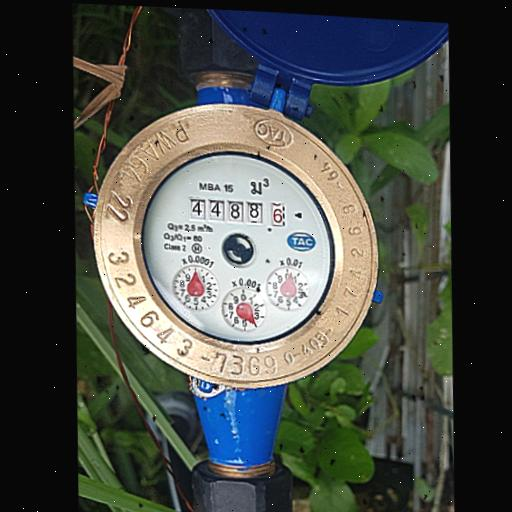4: (190, 199, 206, 220), (210, 200, 224, 221)
6: (271, 203, 285, 226)
8: (229, 201, 243, 223), (249, 202, 263, 224)
border_water_meter_number: (188, 196, 286, 228)
